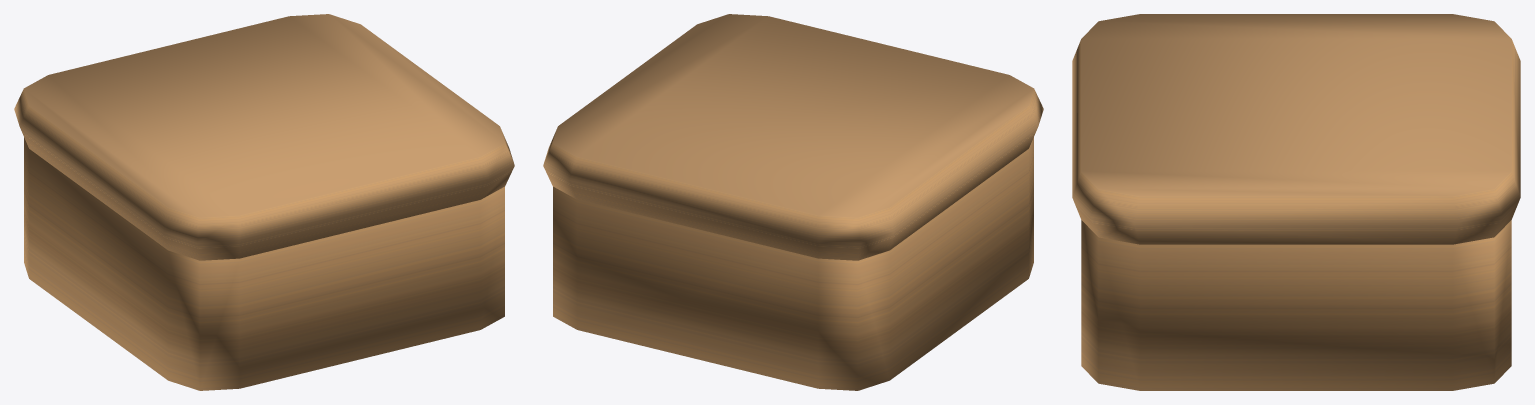
File: block-snow-large.glb
3 views of the same model, side by side, from view 1: azimuth 30°, elevation 25°; view 2: azimuth 150°, elevation 25°; view 3: azimuth 270°, elevation 25° (orthographic). The views are drawn at different scales.
Visible parts, largest first — view 1: block-snow-large; view 2: block-snow-large; view 3: block-snow-large.
Part boxes in pixels (x1=…): block-snow-large: x1=14, y1=14, x2=514, y2=390; block-snow-large: x1=543, y1=14, x2=1043, y2=390; block-snow-large: x1=1072, y1=14, x2=1520, y2=390.
Size of the model in its own units: 2.08 by 1 by 2.08.
1 material, 1 textured.
